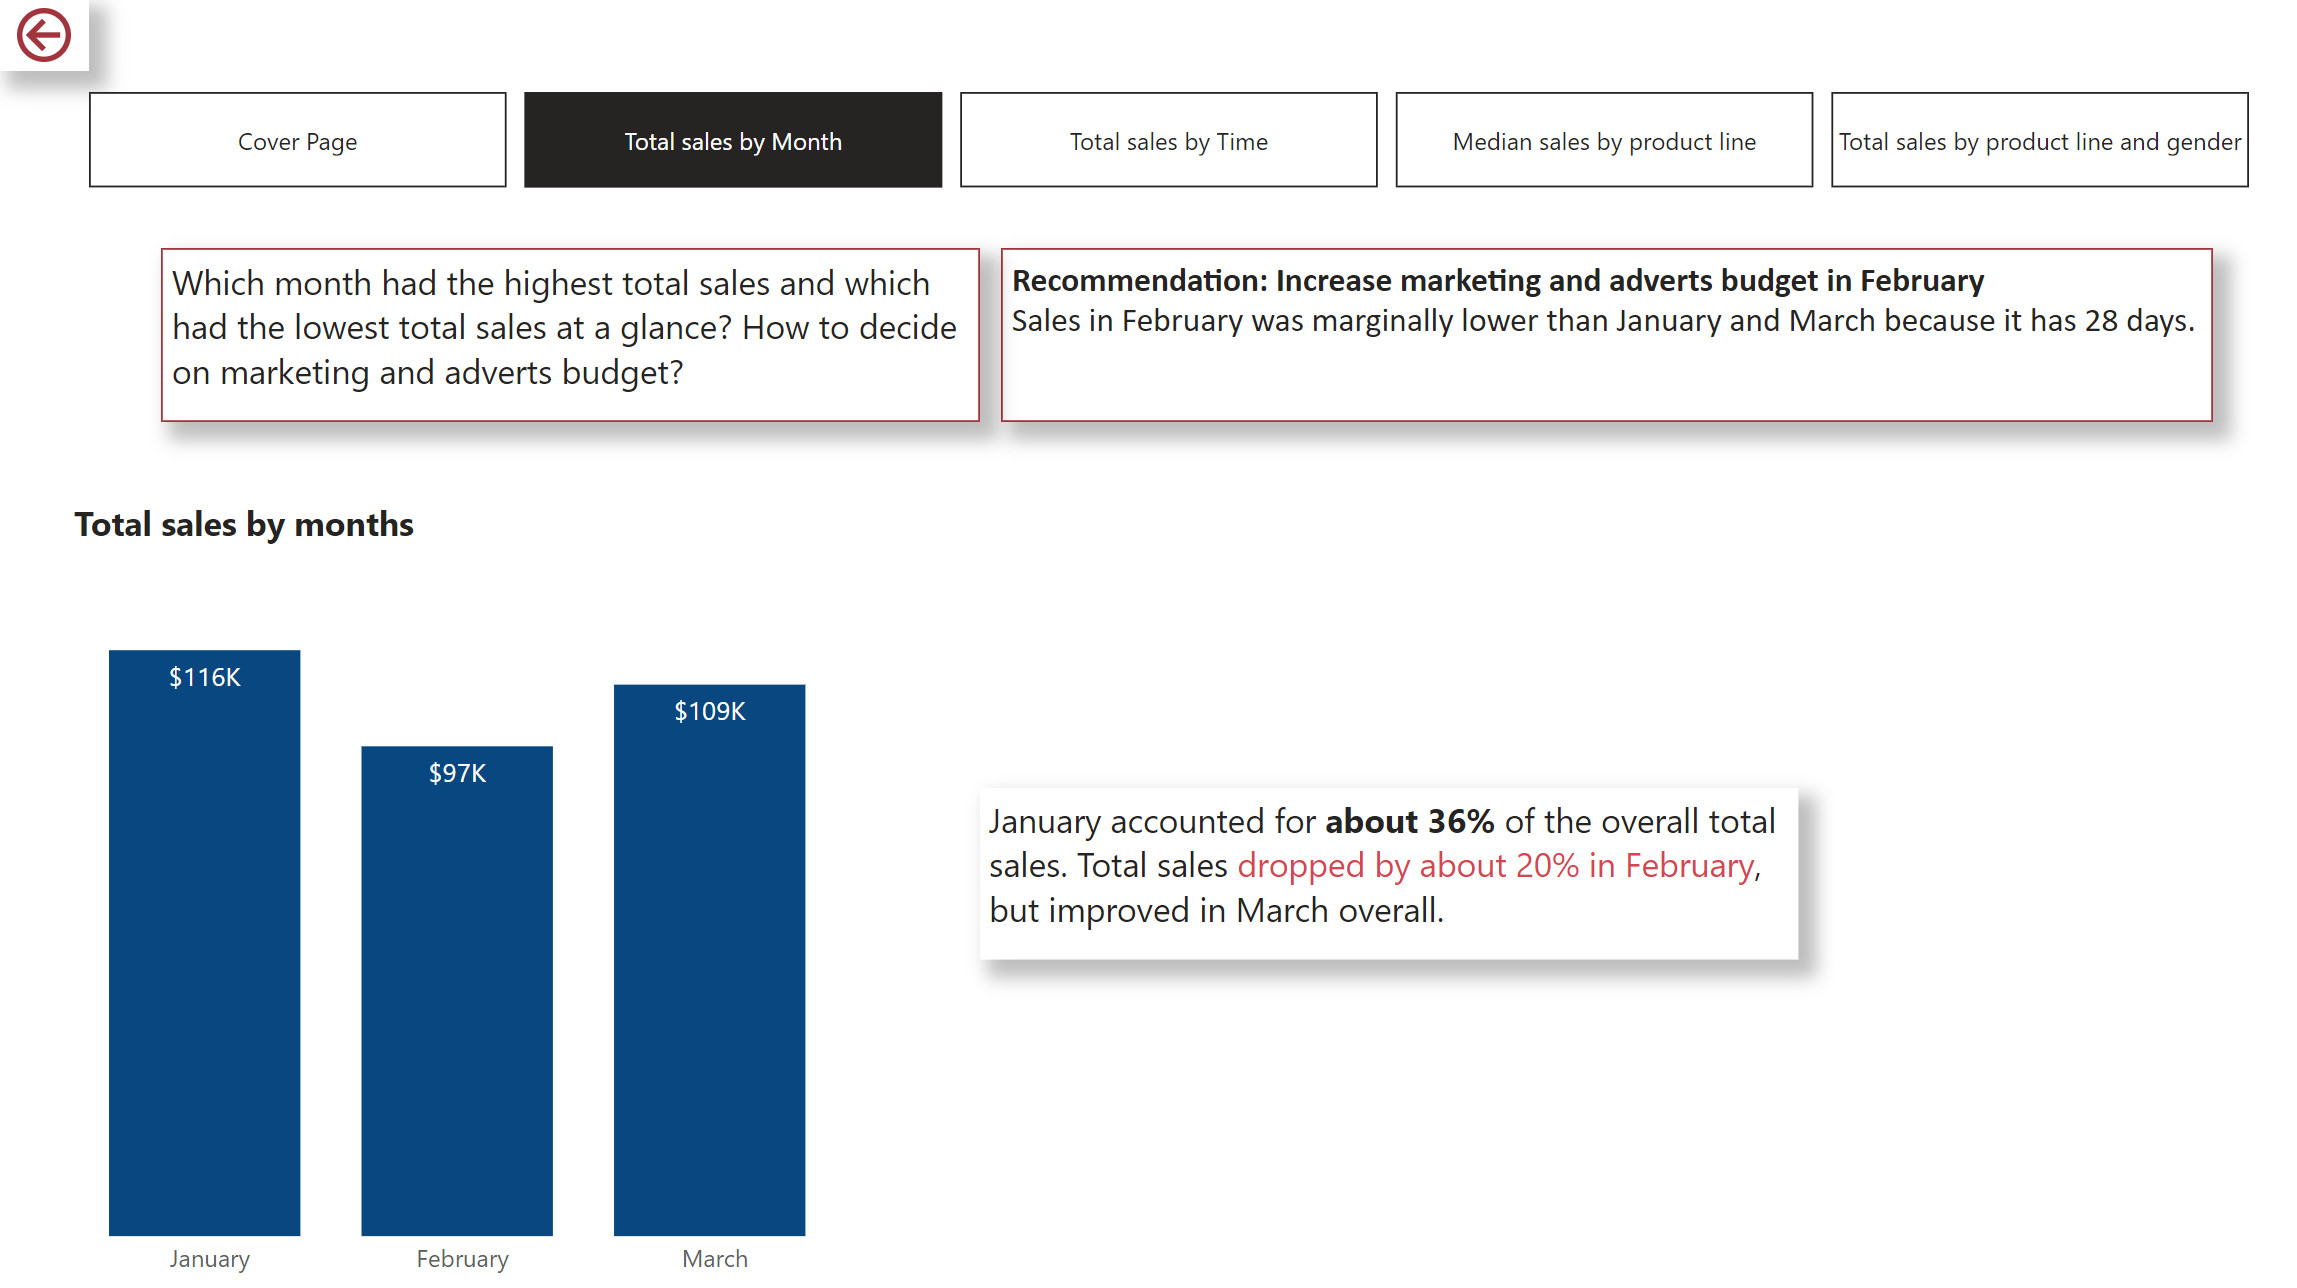

Layout of this report page (visuals, bound fields, positions):
{"tool":"powerbi","page":{"name":"Total sales by Month","canvas":[1280,720],"ordinal":1},"visuals":[{"type":"columnChart","fields":{"Y":["Sum(supermarket_sales.Sales)"],"Category":["Dates.MonthName"]},"box":[0,321.9,515,397.6],"z":0},{"type":"textbox","box":[37.2,273.4,228.1,48.5],"z":1000},{"type":"textbox","box":[545.3,438.5,454.7,95.5],"z":2000},{"type":"textbox","box":[556.7,138.3,673.3,96.7],"z":3000},{"type":"actionButton","box":[0,0,50,40],"z":4000},{"type":"pageNavigator","box":[50,51.7,1201.7,53.3],"z":5000},{"type":"textbox","box":[90,138.3,455,96.7],"z":6000}]}

Visuals, with their boxes in screenshot pixels (x1, y1, x2, y2), scaled from the page's 1280x720 canvas onto the 2297x1288 screenshot:
columnChart - Sum(supermarket_sales.Sales) x Dates.MonthName: 0:576:924:1287
textbox: 67:489:476:576
textbox: 979:784:1795:955
textbox: 999:247:2207:420
actionButton: 0:0:90:72
pageNavigator: 90:92:2246:188
textbox: 162:247:978:420
